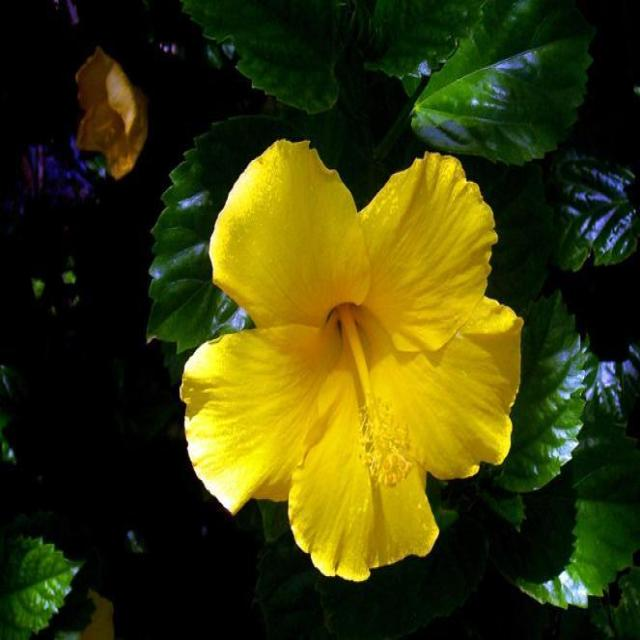hibiscus: (172, 128, 567, 630)
